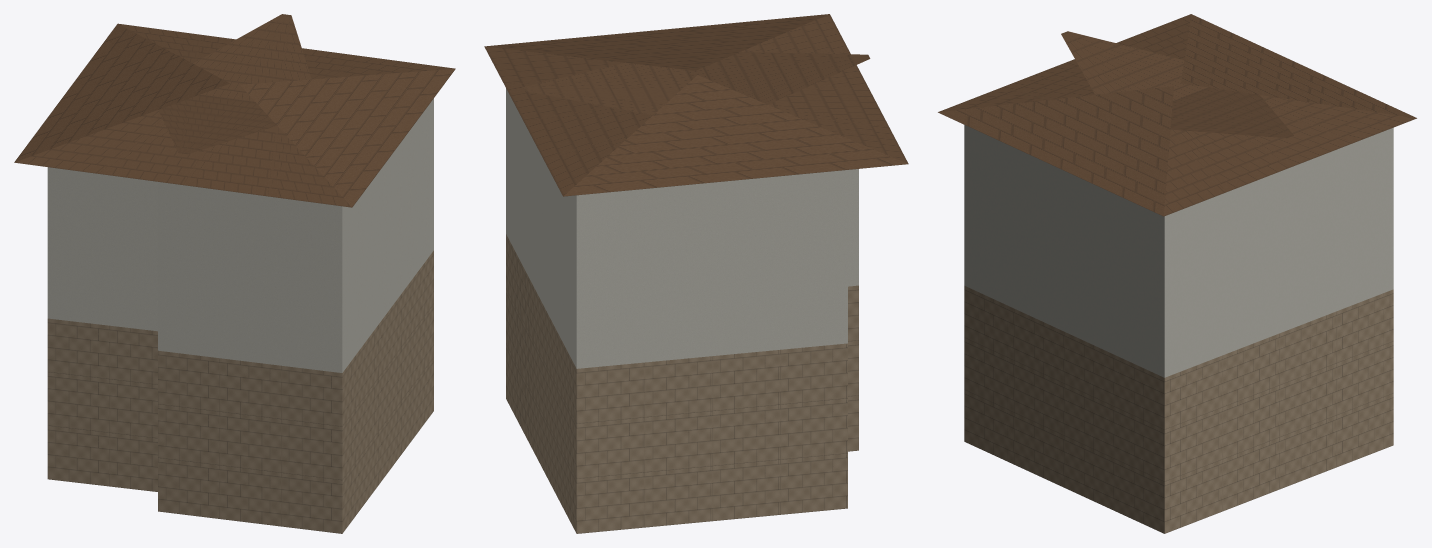
Rendered from bld_c20_31_372.gltf.
3 views of the same model, side by side, from view 1: azimuth 30°, elevation 25°; view 2: azimuth 150°, elevation 25°; view 3: azimuth 270°, elevation 25° (orthographic). The views are drawn at different scales.
Parts seen in each view (by area): view 1: bld_c20_31_372; view 2: bld_c20_31_372; view 3: bld_c20_31_372.
Part boxes in pixels (bbox=[...]): bld_c20_31_372: bbox=[14, 14, 455, 533]; bld_c20_31_372: bbox=[484, 14, 908, 533]; bld_c20_31_372: bbox=[938, 14, 1416, 533].
Bounding box in the file's own units: 14.2 × 11.7 × 14.21.
Materials: 3 (3 with a texture image).
